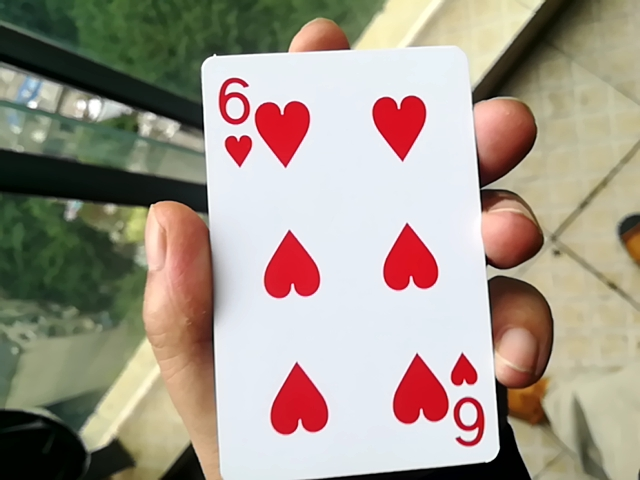hx 6: (188, 44, 506, 478)
